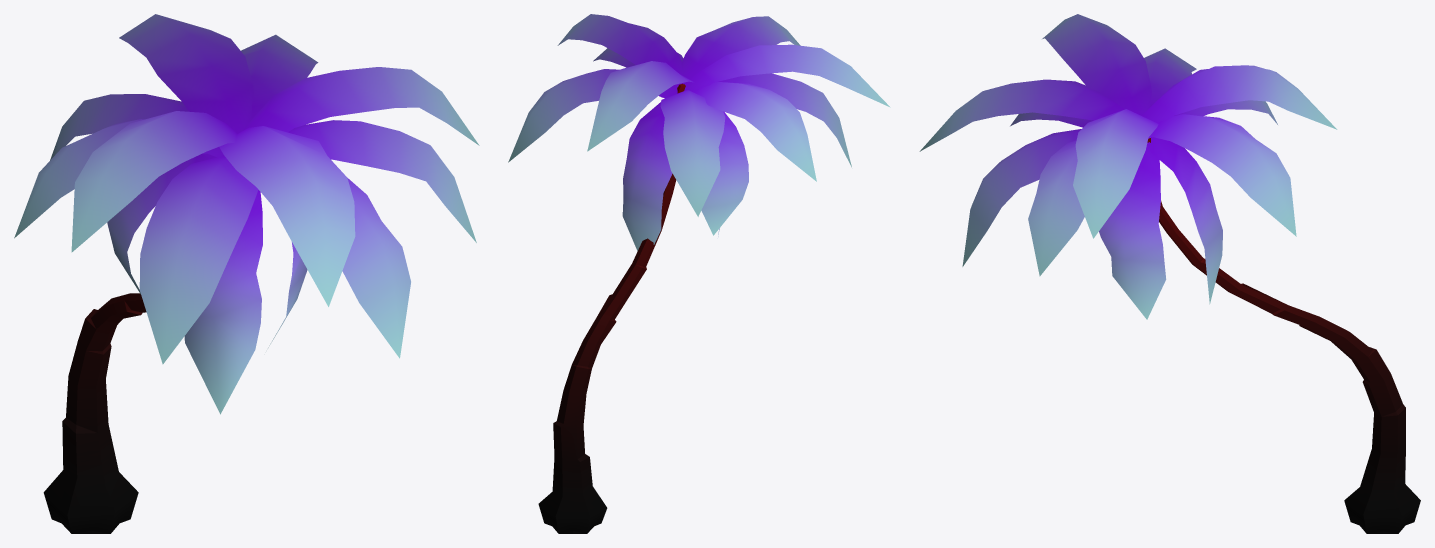
Rendered from SM_Env_Tree_Palm_04.gltf.
3 renders of one model, left to right at view 1: azimuth 30°, elevation 25°; view 2: azimuth 150°, elevation 25°; view 3: azimuth 270°, elevation 25°, orthographic. The views are drawn at different scales.
Parts seen in each view (by area): view 1: SM_Env_Tree_Palm_04_LOD0; view 2: SM_Env_Tree_Palm_04_LOD0; view 3: SM_Env_Tree_Palm_04_LOD0.
Part boxes in pixels (x1,y1,x2,y2): SM_Env_Tree_Palm_04_LOD0: (14, 14, 479, 533); SM_Env_Tree_Palm_04_LOD0: (508, 14, 890, 533); SM_Env_Tree_Palm_04_LOD0: (919, 14, 1420, 533).
Bounding box in the file's own units: 5.32 × 6.69 × 6.53.
